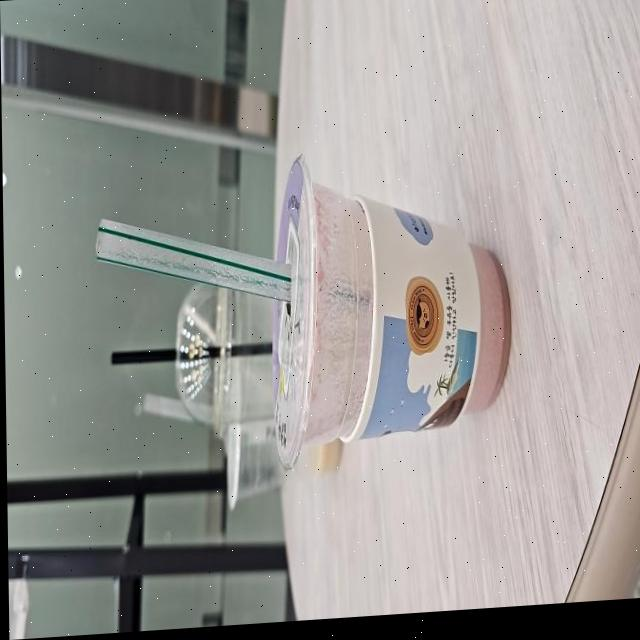cup: (265, 135, 514, 487)
